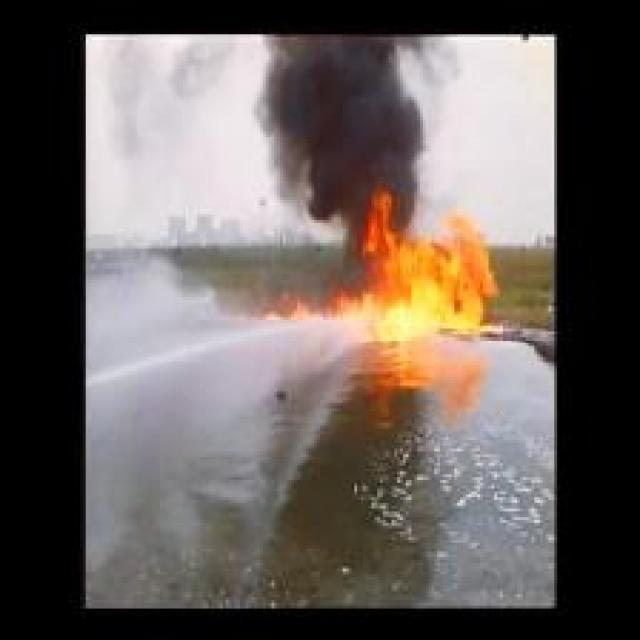Fire: (262, 192, 502, 344)
